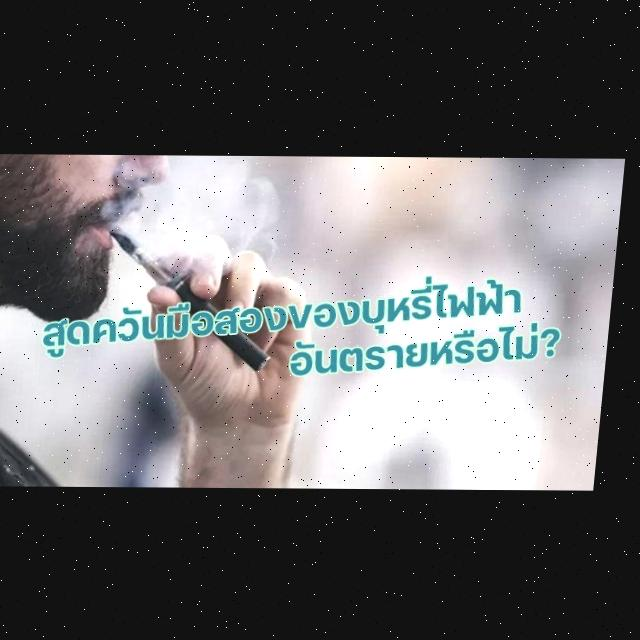vape: (104, 226, 288, 372)
